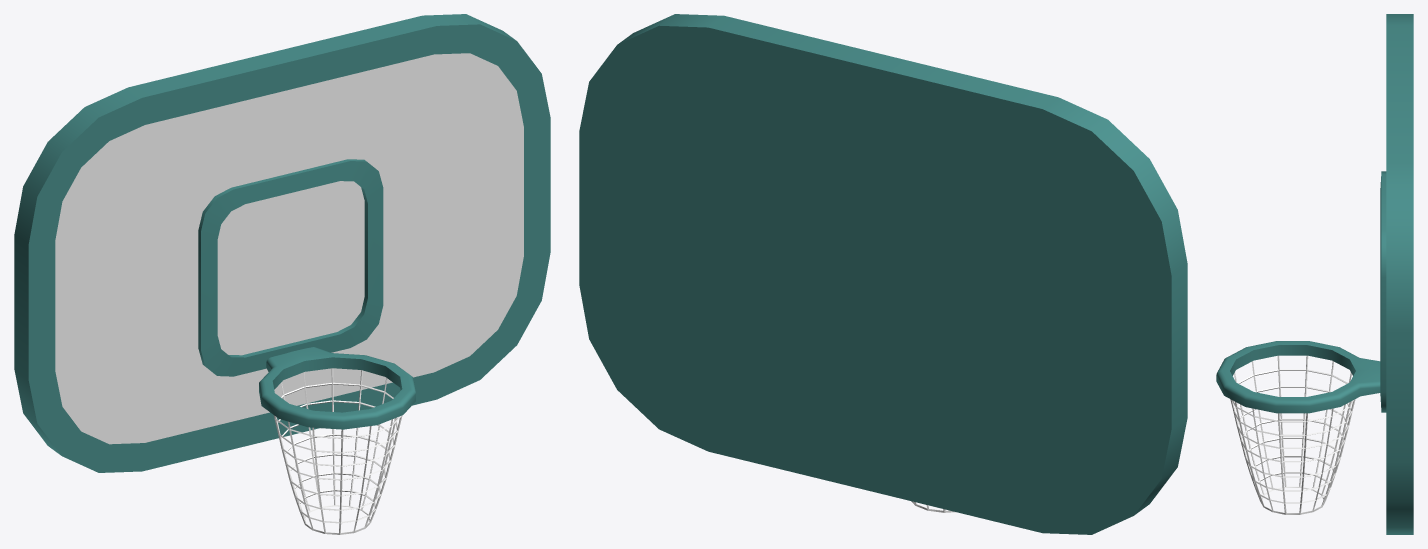
File: Basketball Net_3.fbx
3 renders of one model, left to right at view 1: azimuth 30°, elevation 25°; view 2: azimuth 150°, elevation 25°; view 3: azimuth 270°, elevation 25°, orthographic. The views are drawn at different scales.
Visible parts, largest first — view 1: Basketball Net_3; view 2: Basketball Net_3; view 3: Basketball Net_3.
Part boxes in pixels (x1,y1,x2,y2): Basketball Net_3: (14, 14, 550, 534); Basketball Net_3: (579, 14, 1187, 534); Basketball Net_3: (1216, 14, 1413, 534).
Bounding box in the file's own units: 0.9596 × 0.7435 × 0.3263.
